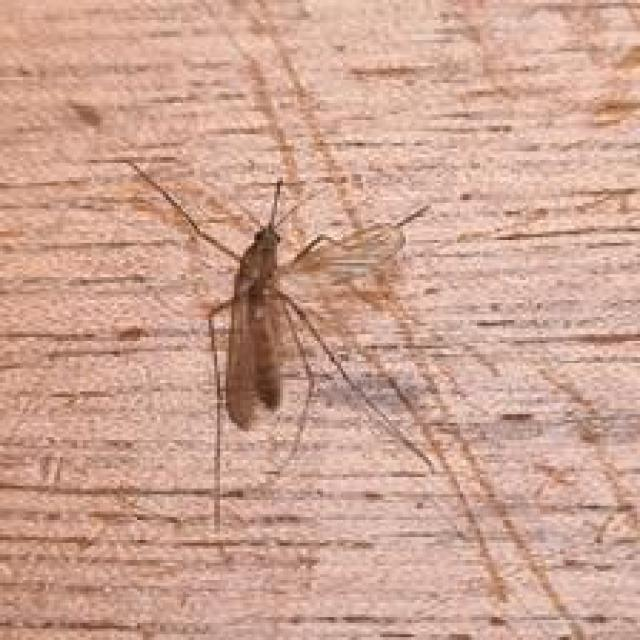Culex: (114, 156, 443, 533)
